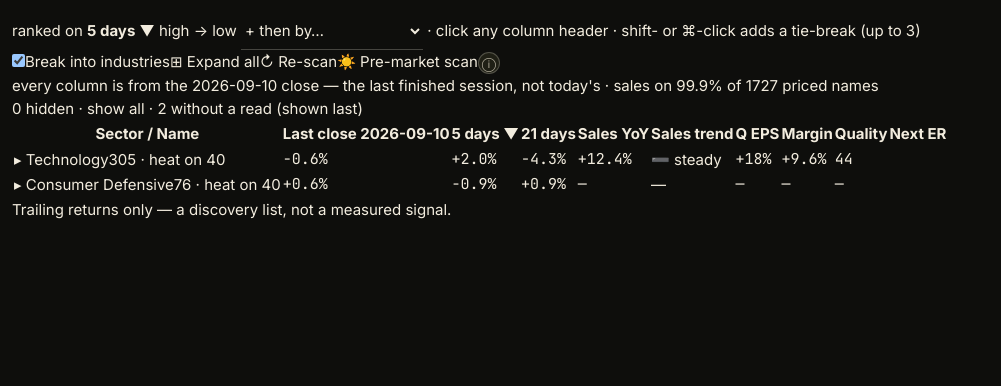
Test: 🔥 Hottest — the 🎯 enterable cut says it is over a server-cut list › a BLOCKED name disappears from an opened group, a READY one stays
Step 1. Click the button "▸ Consumer Defensive" → (94, 185), box [14,173,174,196]
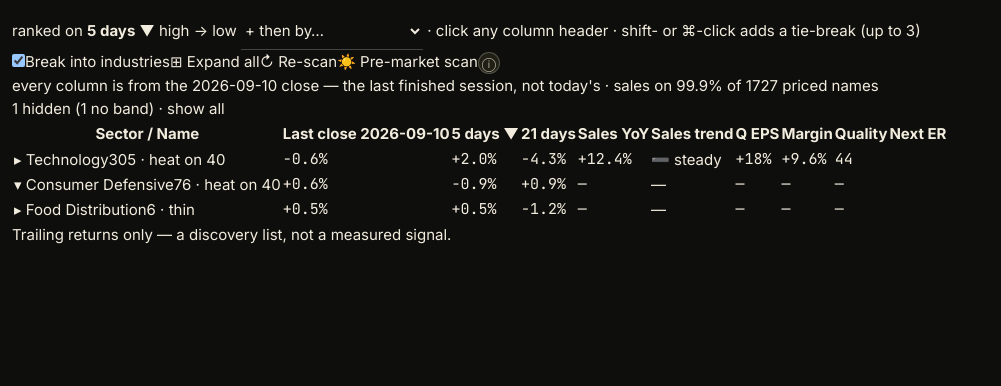
Step 2. Click the button "▸ Food Distribution" → (80, 210), box [14,198,147,222]
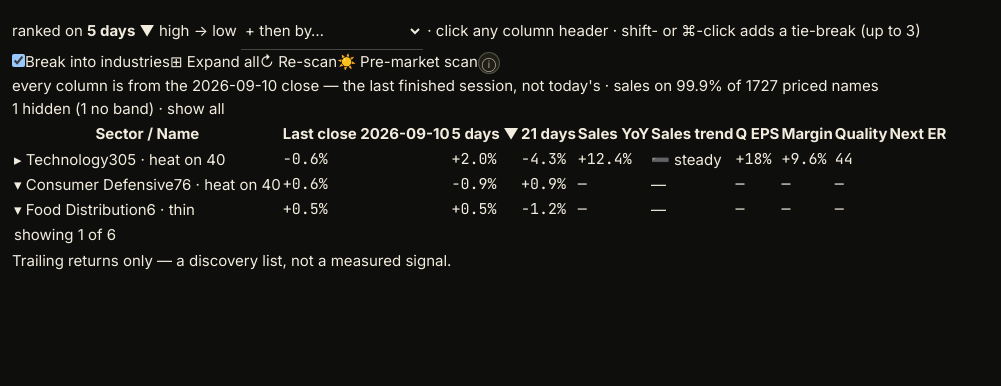
Step 3. Click the button "▸ Technology" → (61, 159), box [14,148,109,171]
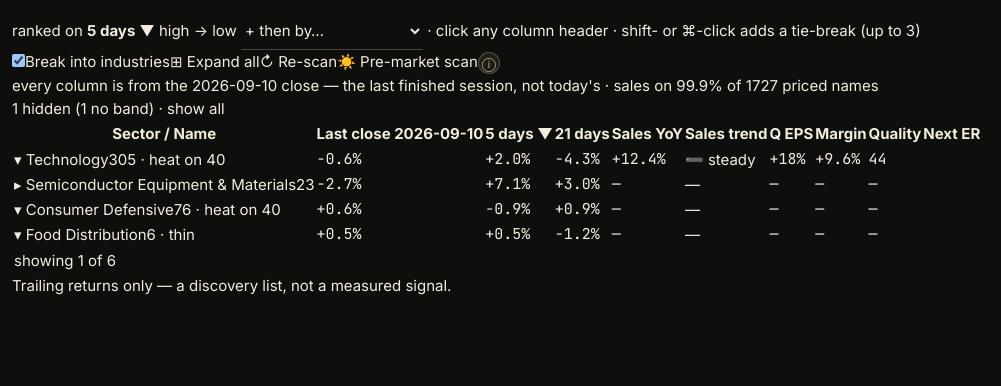
Step 4. Click the button "▸ Semiconductor Equipment & Materials" → (155, 185), box [14,173,296,196]
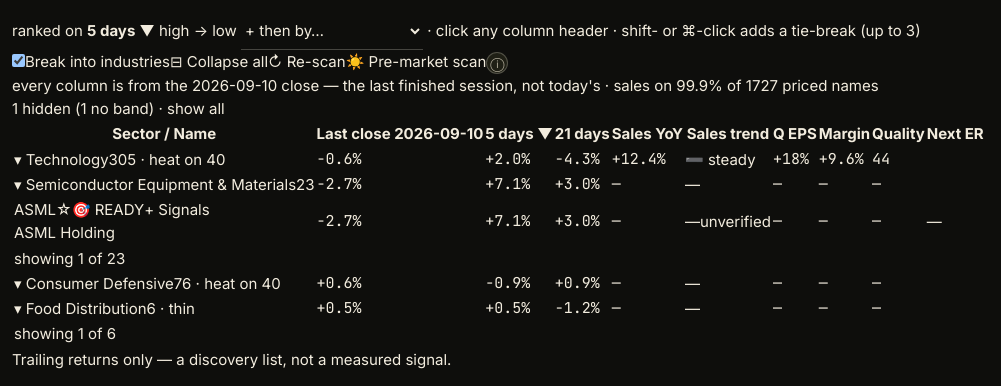
Now the link "ASML" is shown, box [14,200,56,219]
Now the text "🎯 READY" is shown, box [72,200,144,219]
